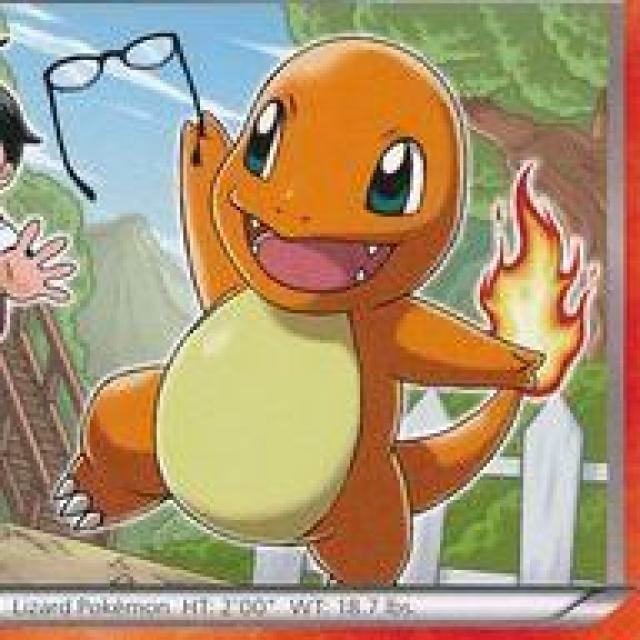Charmander: (161, 38, 515, 575)
